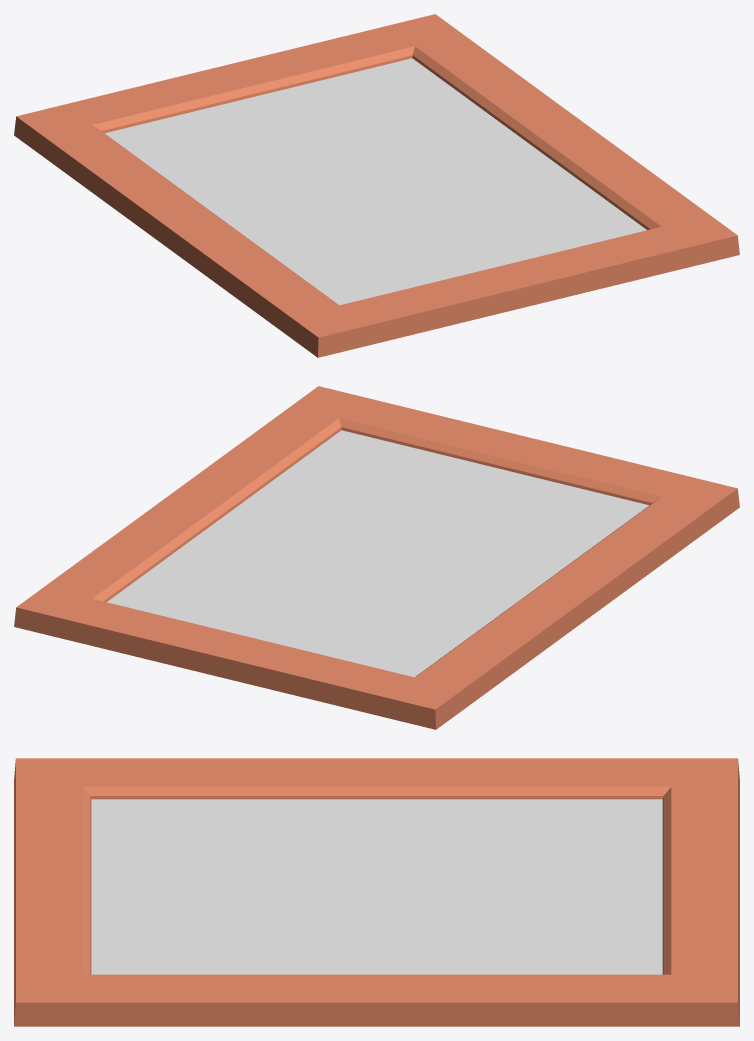
File: frame.fbx
3 views of the same model, one above another, from view 1: azimuth 30°, elevation 25°; view 2: azimuth 150°, elevation 25°; view 3: azimuth 270°, elevation 25° (orthographic). The views are drawn at different scales.
Visible parts, largest first — view 1: Pictureframe_a; view 2: Pictureframe_a; view 3: Pictureframe_a.
Part boxes in pixels (left/top/right/bottom): Pictureframe_a: left=14, top=14, right=739, bottom=357; Pictureframe_a: left=14, top=386, right=739, bottom=729; Pictureframe_a: left=14, top=758, right=739, bottom=1026.
Size of the model in its own units: 1348 by 58.97 by 1681.
